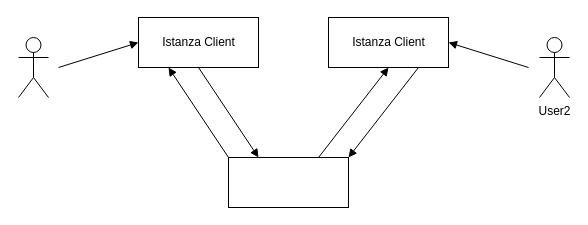
Some shapes in this 588 by 225 pixel diagram are drawn without their labels. Here are the shapes that lost their labels. From the top down, the centre of each, then its label:
At (x=33, y=67): "User1".
At (x=288, y=182): "Server".
